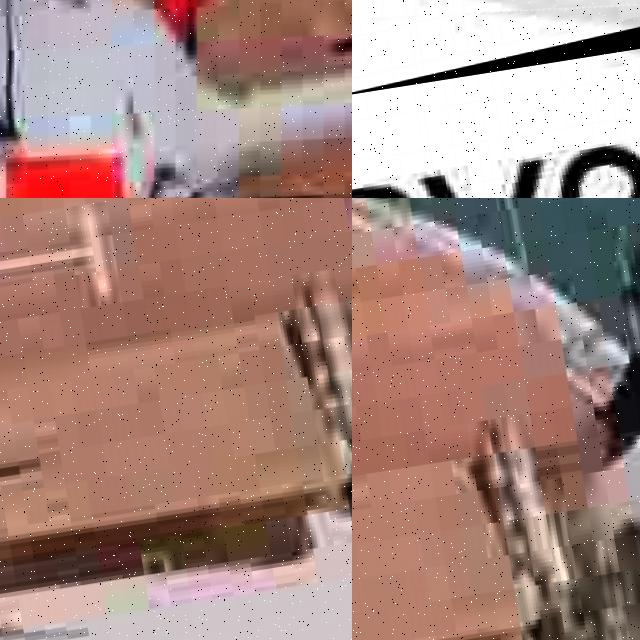drone: (0, 0, 352, 198), (352, 0, 640, 99)
